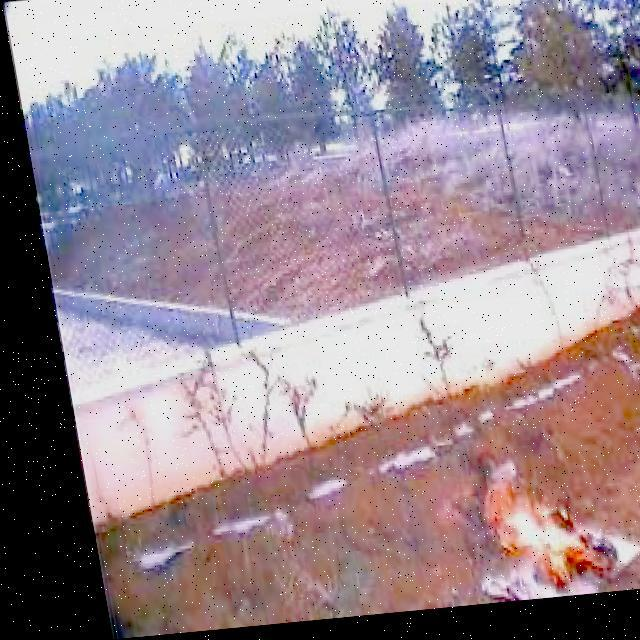Fire: (420, 446, 614, 610)
